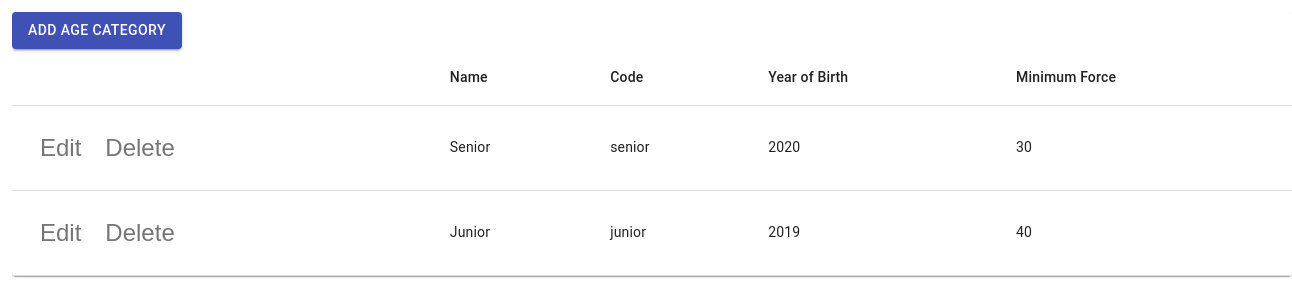
Test: AgeCategoryList - edit and save › want to edit but changes mind
Expected: the text "Senior" is shown, [434,105,594,190]
Expected: the text "senior" is shown, [594,105,752,190]
Click the button "Edit" in the row of "2019" at (61, 232), box [28,206,93,258]
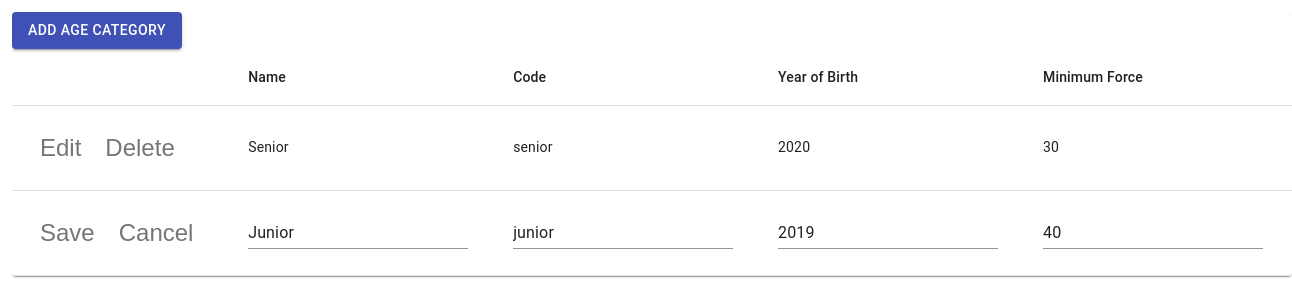
Replace the text in the 1st field with "JuniorEdited" at (358, 232), box [248,216,468,248]
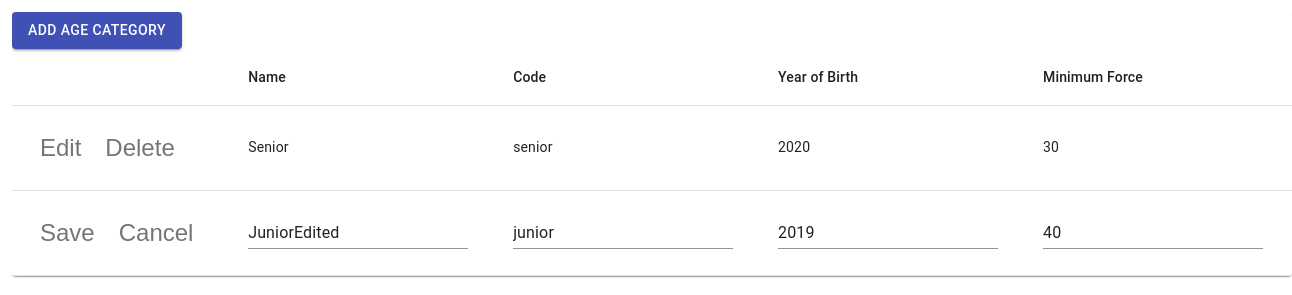
Replace the text in the 2nd field with "junior-edited" at (623, 232), box [513,216,733,248]
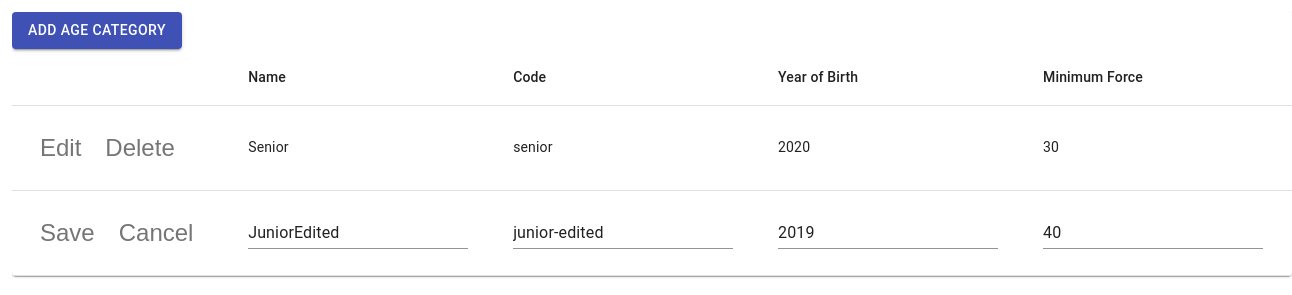
Replace the text in the 3rd field with "2025" at (888, 232), box [778,216,998,248]
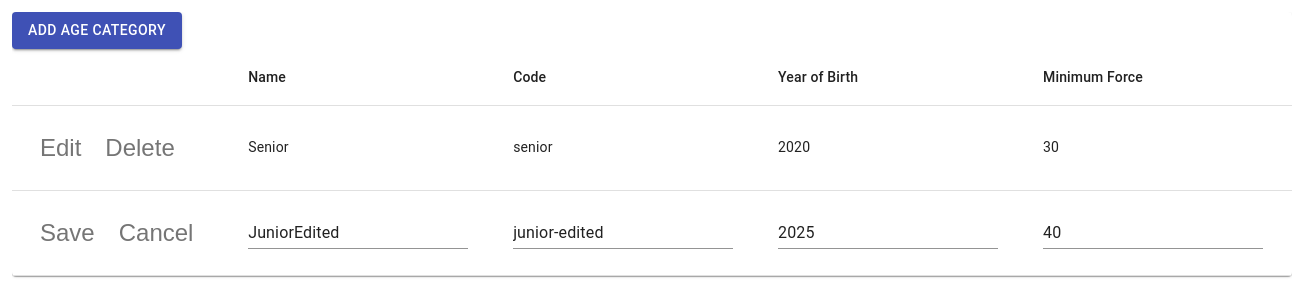
Replace the text in the 4th field with "50" at (1153, 232), box [1043,216,1263,248]
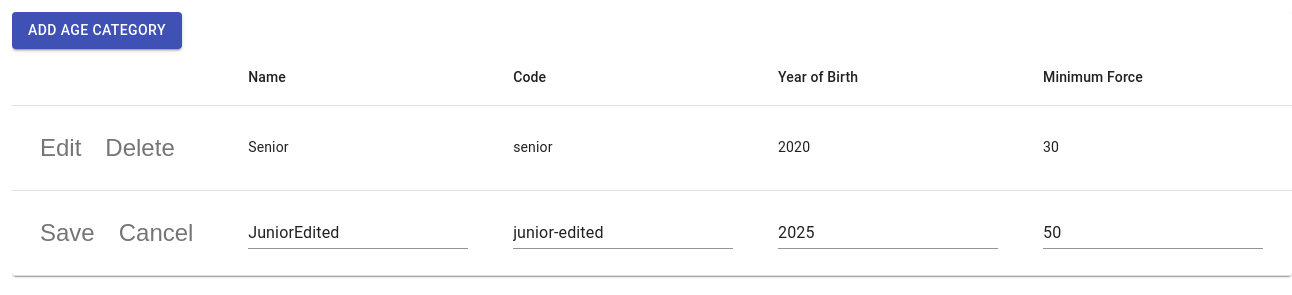
Click the button with test id "cancel-button-2" at (156, 232), box [107,206,205,258]
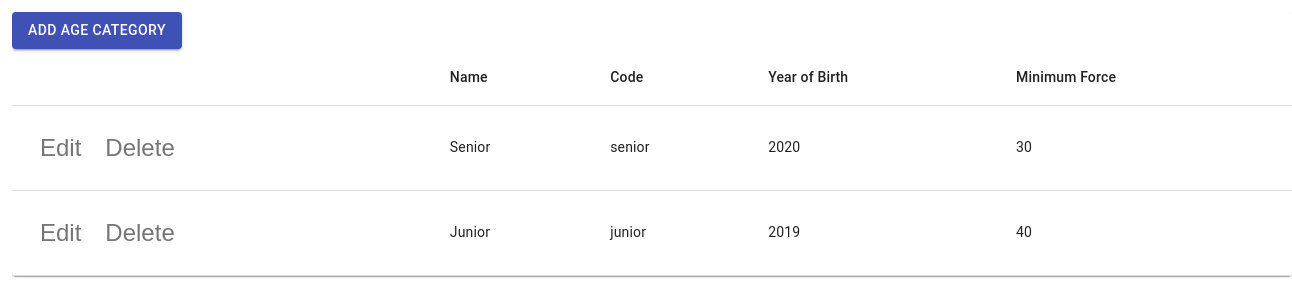
Now the text "Junior" is shown, box [434,190,594,275]
Now the text "junior" is shown, box [594,190,752,275]
Now the text "2019" is shown, box [752,190,1000,275]
